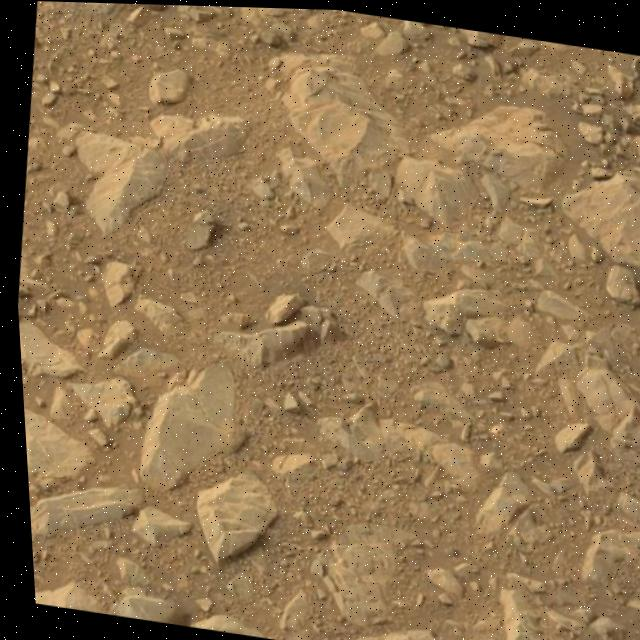mars-rocks: (133, 366, 238, 490), (57, 122, 163, 232), (429, 102, 565, 185), (562, 165, 640, 266), (191, 473, 271, 562), (395, 154, 475, 224), (24, 488, 135, 538), (148, 113, 248, 162), (19, 411, 87, 479), (15, 319, 79, 378), (65, 377, 131, 428)
